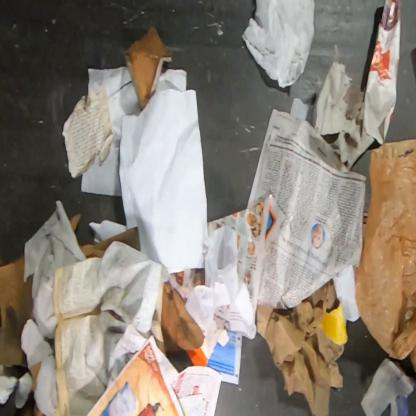cardboard: (0, 255, 59, 415), (124, 24, 172, 112), (78, 226, 141, 259), (69, 211, 81, 234)
soft_plastic: (354, 137, 415, 375), (241, 0, 315, 89)
